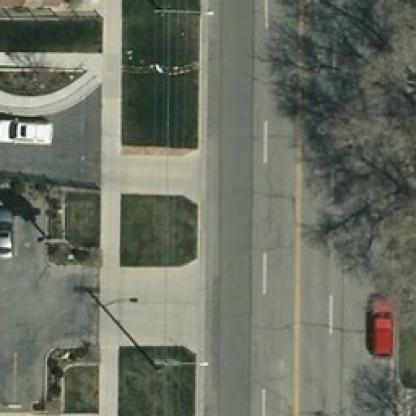car: (364, 298, 395, 354), (0, 113, 52, 146), (0, 208, 12, 261)
